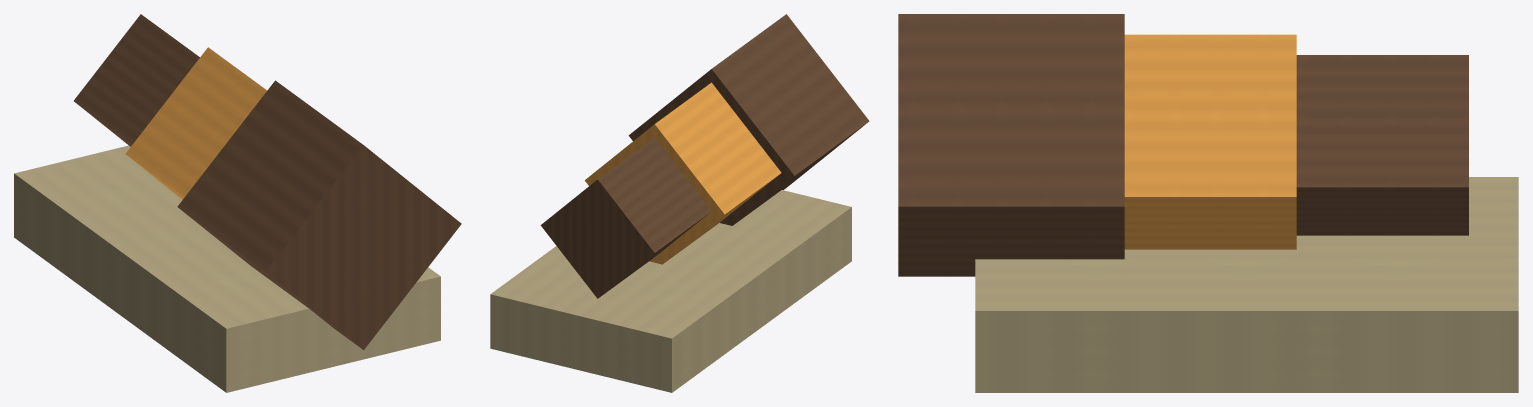
Rendered from atlas100-s013-a05.lod2.glb.
3 views of the same model, side by side, from view 1: azimuth 30°, elevation 25°; view 2: azimuth 150°, elevation 25°; view 3: azimuth 270°, elevation 25° (orthographic). The views are drawn at different scales.
Parts seen in each view (by area): view 1: atlas100-s013-a05:part-004, atlas100-s013-a05:part-002, atlas100-s013-a05:part-001, atlas100-s013-a05:part-000; view 2: atlas100-s013-a05:part-004, atlas100-s013-a05:part-002, atlas100-s013-a05:part-000, atlas100-s013-a05:part-001; view 3: atlas100-s013-a05:part-004, atlas100-s013-a05:part-002, atlas100-s013-a05:part-001, atlas100-s013-a05:part-000.
Boxes of the visible parts, box(x1,y1,x2,y2) form: atlas100-s013-a05:part-004: box(14, 145, 440, 392); atlas100-s013-a05:part-002: box(177, 80, 461, 349); atlas100-s013-a05:part-001: box(125, 47, 267, 199); atlas100-s013-a05:part-000: box(74, 14, 199, 146); atlas100-s013-a05:part-004: box(490, 190, 851, 392); atlas100-s013-a05:part-002: box(628, 14, 869, 225); atlas100-s013-a05:part-000: box(540, 138, 711, 298); atlas100-s013-a05:part-001: box(585, 82, 781, 264); atlas100-s013-a05:part-004: box(975, 177, 1518, 392); atlas100-s013-a05:part-002: box(898, 14, 1124, 276); atlas100-s013-a05:part-001: box(1124, 34, 1296, 249); atlas100-s013-a05:part-000: box(1296, 55, 1468, 235).
Bounding box in the file's own units: 0.3822 × 0.415 × 0.748.
3 materials, 3 textured.
